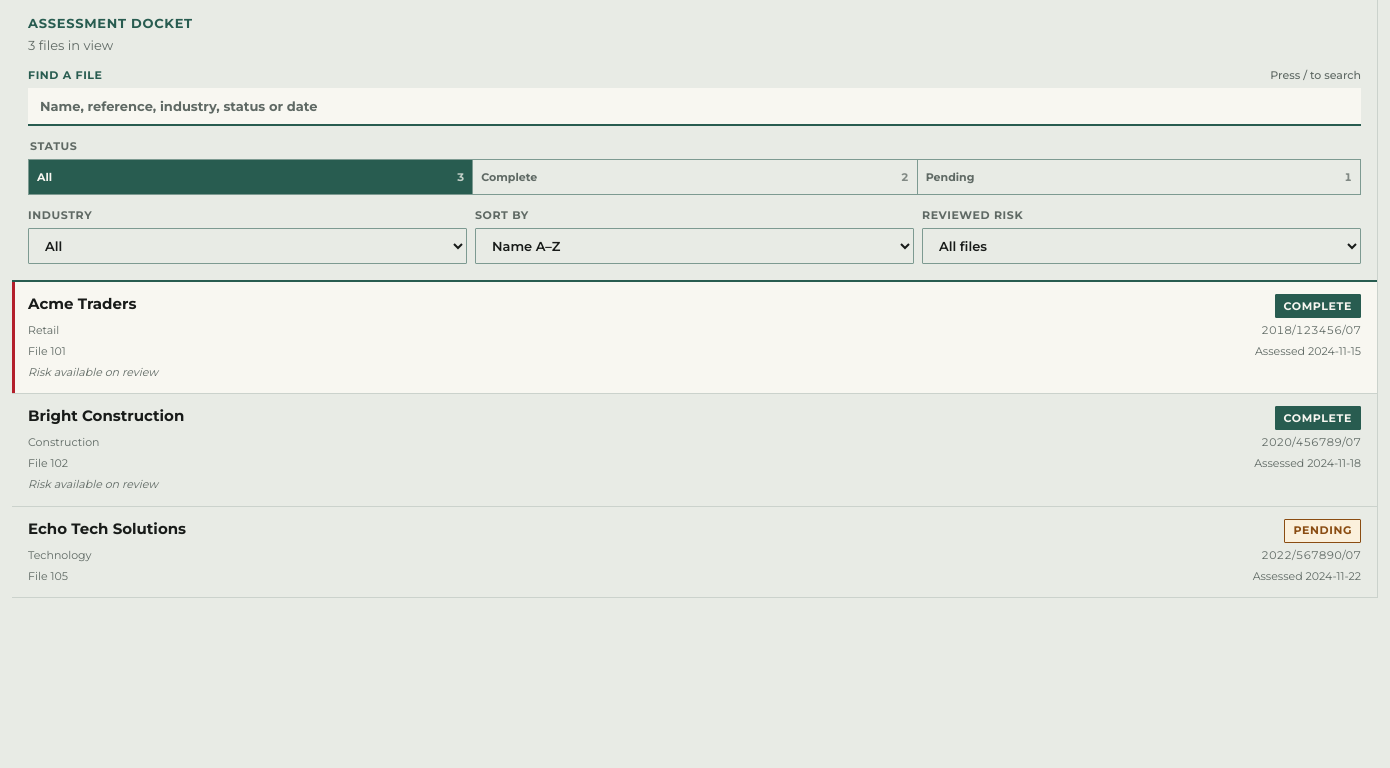
Docket › focuses search with slash and states an unmatched query in words
The image size is (1390, 768).
Type keys "/"
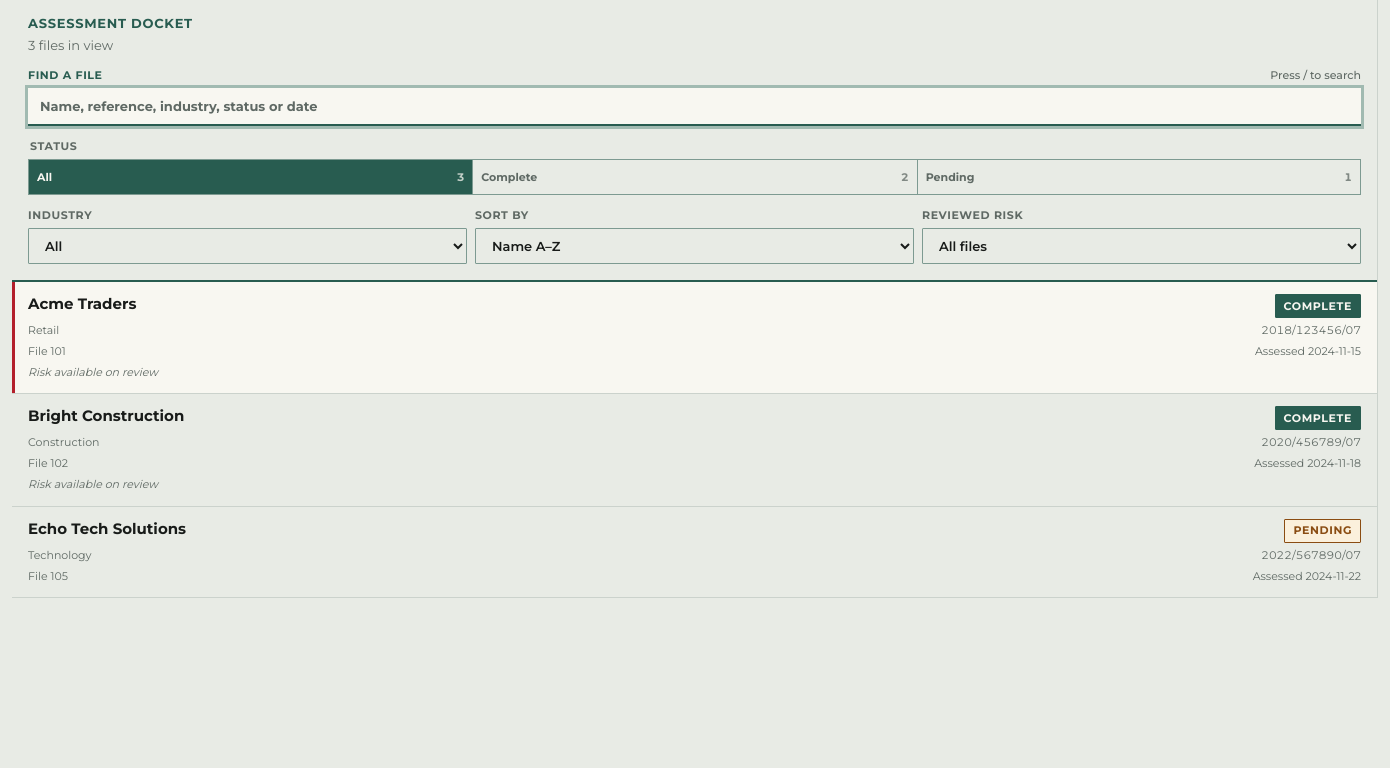
Type "unknown firm" into the search field labelled "Find a file Press / to search". click: (694, 106)
box: [28, 88, 1361, 124]
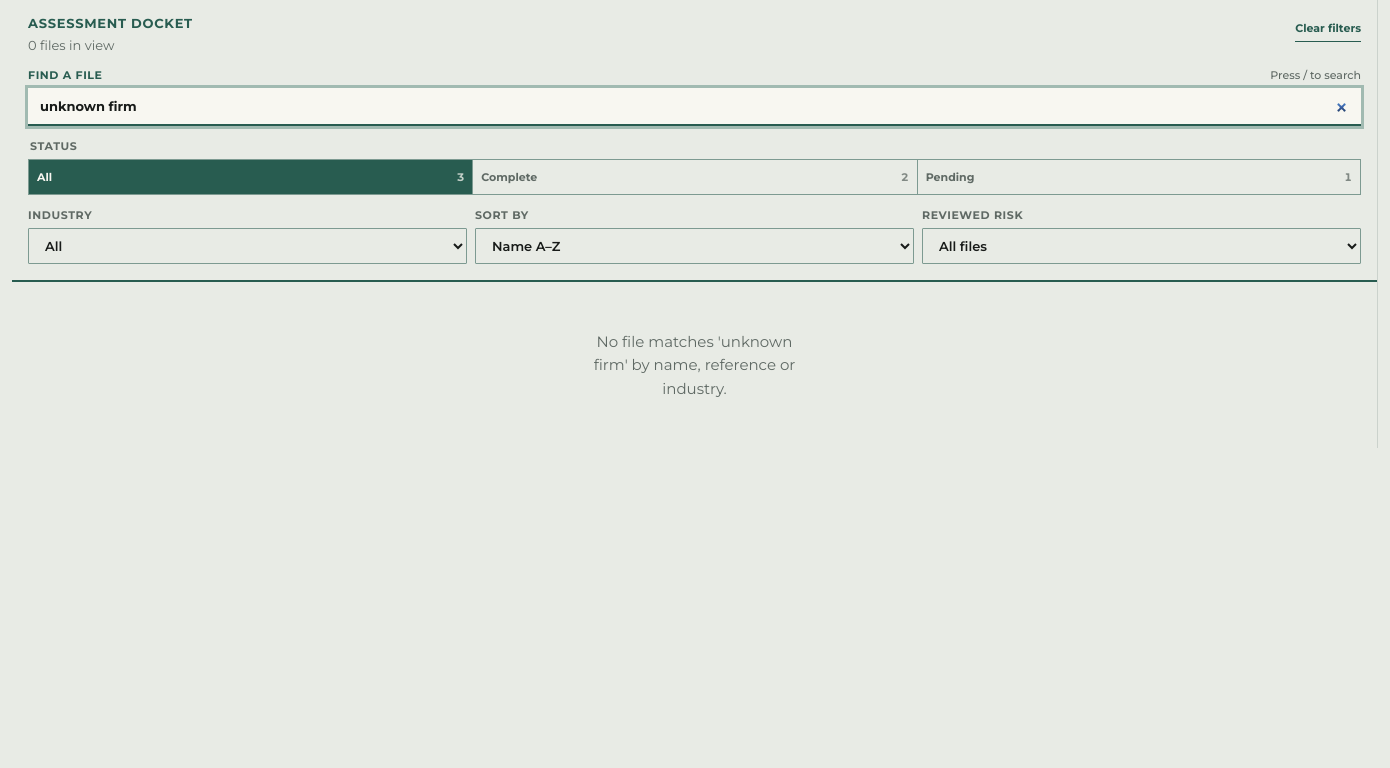
Now the text "No file matches 'unknown firm' by name, reference or industry." is shown, box [594, 332, 795, 398]
